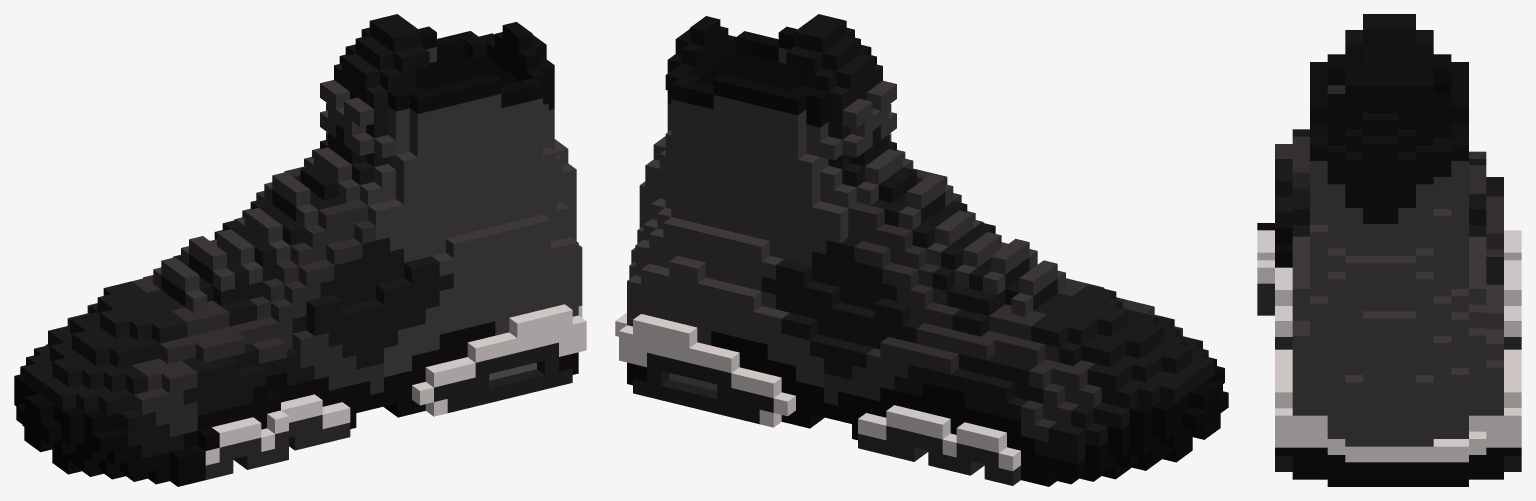
The model's file is Black Kitten.fbx.
The picture shows the model from 3 angles, left to right: view 1: azimuth 30°, elevation 25°; view 2: azimuth 150°, elevation 25°; view 3: azimuth 270°, elevation 25°; orthographic projection. The views are drawn at different scales.
Parts seen in each view (by area): view 1: Untitled; view 2: Untitled; view 3: Untitled.
Part boxes in pixels (bbox=[...]): Untitled: bbox=[14, 14, 586, 486]; Untitled: bbox=[615, 14, 1228, 486]; Untitled: bbox=[1257, 14, 1521, 486].
Size of the model in its own units: 390 by 240 by 150.
